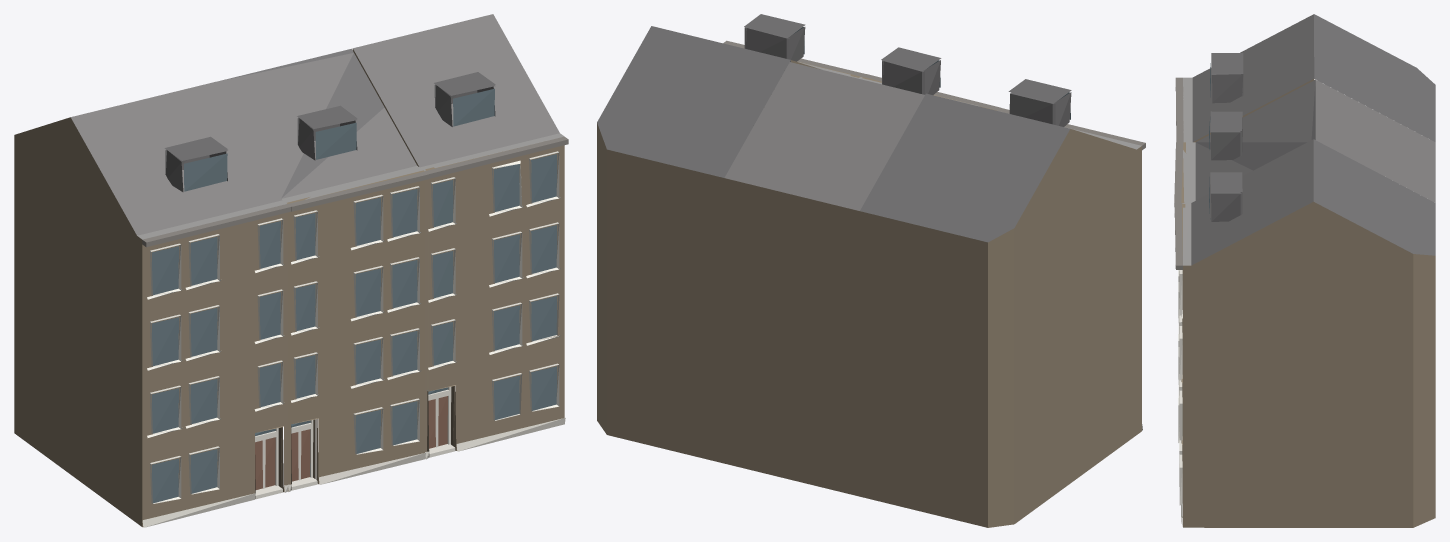
The model's file is chunk-face-haring-26-38-r1.lod2.glb.
3 renders of one model, left to right at view 1: azimuth 30°, elevation 25°; view 2: azimuth 150°, elevation 25°; view 3: azimuth 270°, elevation 25°, orthographic. The views are drawn at different scales.
Parts seen in each view (by area): view 1: lod2; view 2: lod2; view 3: lod2.
Boxes of the visible parts, <box> form: lod2: <box>14,14,568,527</box>; lod2: <box>597,14,1145,527</box>; lod2: <box>1174,14,1435,527</box>.
Size of the model in its own units: 18.55 by 15 by 10.9.
